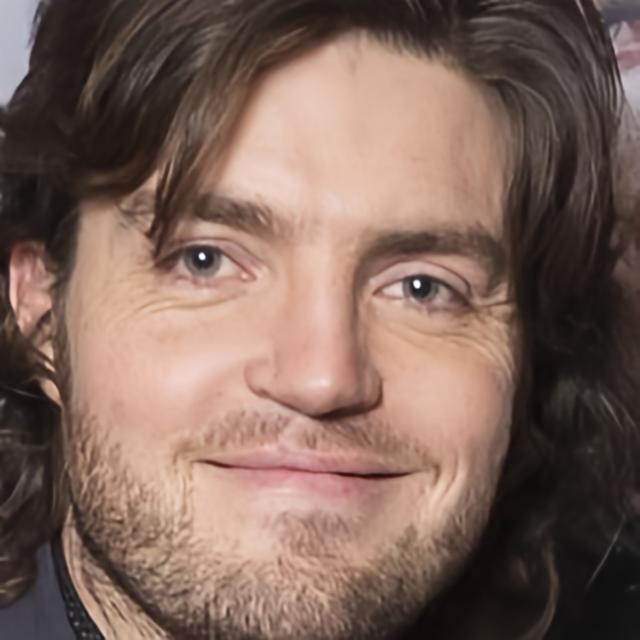content: (64, 17, 526, 640)
